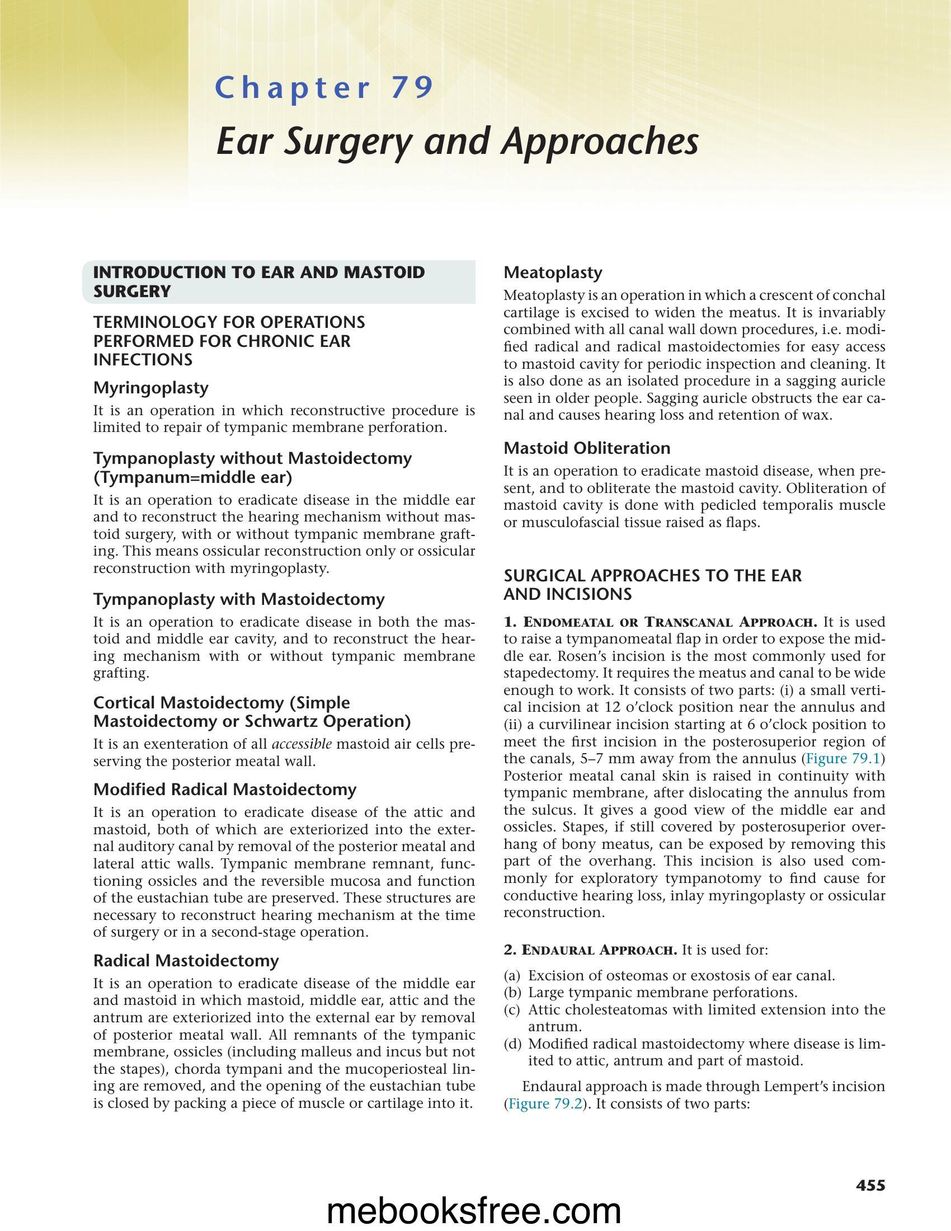chapter-heading: (215, 123, 701, 166)
list: (503, 968, 887, 1070)
section-heading: (93, 264, 426, 298)
sub-section-heading: (92, 314, 365, 368), (92, 450, 413, 488), (93, 695, 411, 732), (502, 567, 802, 601), (92, 591, 386, 610), (94, 780, 358, 800), (93, 952, 280, 971), (504, 440, 671, 455), (93, 380, 209, 399), (504, 264, 603, 283)
text: (502, 614, 887, 957), (92, 976, 477, 1113), (502, 288, 886, 424), (92, 805, 476, 941), (92, 493, 477, 578), (502, 463, 886, 533), (92, 615, 476, 682), (503, 1079, 886, 1114), (92, 403, 476, 437), (93, 737, 477, 771)
